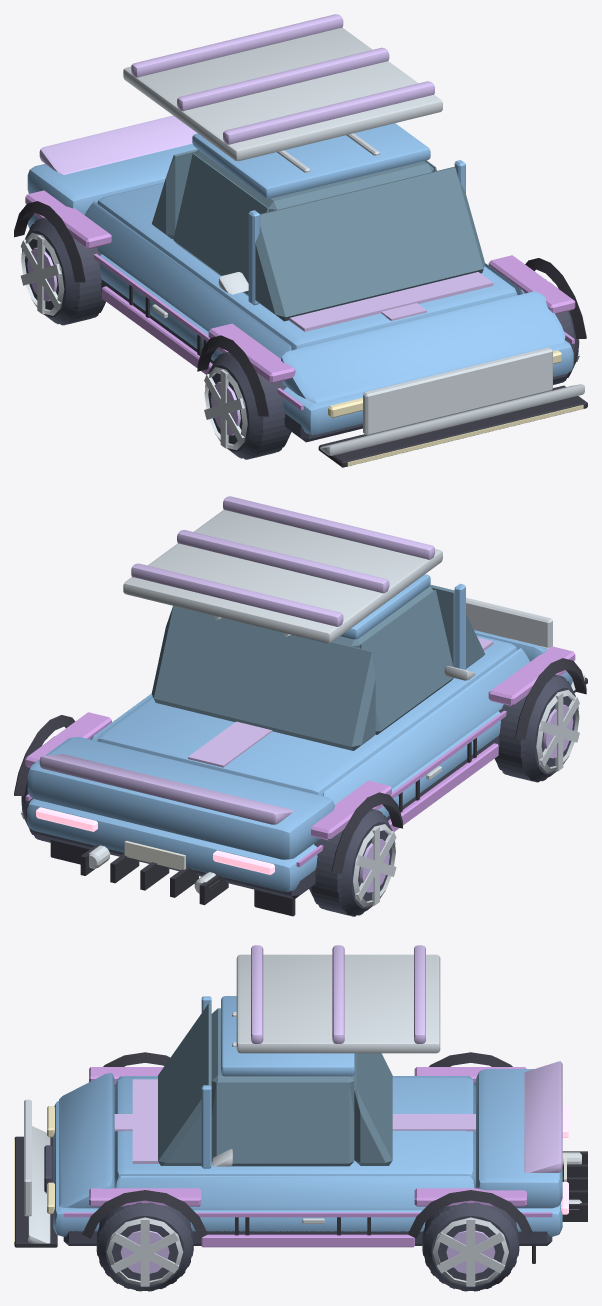
File: lantern_cab.fbx
3 views of the same model, one above another, from view 1: azimuth 30°, elevation 25°; view 2: azimuth 150°, elevation 25°; view 3: azimuth 270°, elevation 25° (orthographic). The views are drawn at different scales.
Parts seen in each view (by area): view 1: Body, Glass, Accent2, Accent3, Metal, Accent, Trim, Wheel_FR, Wheel_RR, Light, Trim2, Metal2; view 2: Body, Glass, Accent2, Accent3, Trim, Accent, Metal, Wheel_RR, Wheel_FR, Light3, Trim2, Light2 (+2 smaller); view 3: Body, Glass, Accent2, Accent3, Accent, Trim, Metal, Wheel_FL, Wheel_RL, Trim2, Light3, Metal2 (+2 smaller).
Part boxes in pixels (x1,y1,x2,y2): Body: (27,123,573,434); Glass: (152,149,485,321); Accent2: (123,27,584,455); Accent3: (39,14,493,331); Metal: (20,232,579,450); Accent: (25,190,575,409); Trim: (14,201,587,467); Wheel_FR: (205,352,291,459); Wheel_RR: (21,217,105,325); Light: (328,350,583,466); Trim2: (101,279,568,442); Metal2: (27,247,240,435); Body: (27,574,572,891); Glass: (151,584,485,750); Accent2: (123,510,584,690); Accent3: (39,496,493,824); Trim: (14,658,587,916); Accent: (25,646,575,867); Metal: (20,597,579,907); Wheel_RR: (309,809,395,916); Wheel_FR: (494,674,578,782); Light3: (188,721,272,767); Trim2: (32,735,499,899); Light2: (36,807,274,874); Body: (53,996,562,1236); Glass: (158,1003,392,1166); Accent2: (28,954,440,1243); Accent3: (132,945,562,1172); Accent: (63,1067,552,1247); Trim: (14,1052,587,1263); Metal: (24,1099,581,1286); Wheel_FL: (96,1202,193,1291); Wheel_RL: (422,1202,519,1291); Trim2: (44,1145,552,1245); Light3: (114,1114,475,1131); Metal2: (120,1230,495,1273).
Bounding box in the file's own units: 3.4 × 2.55 × 5.64.
